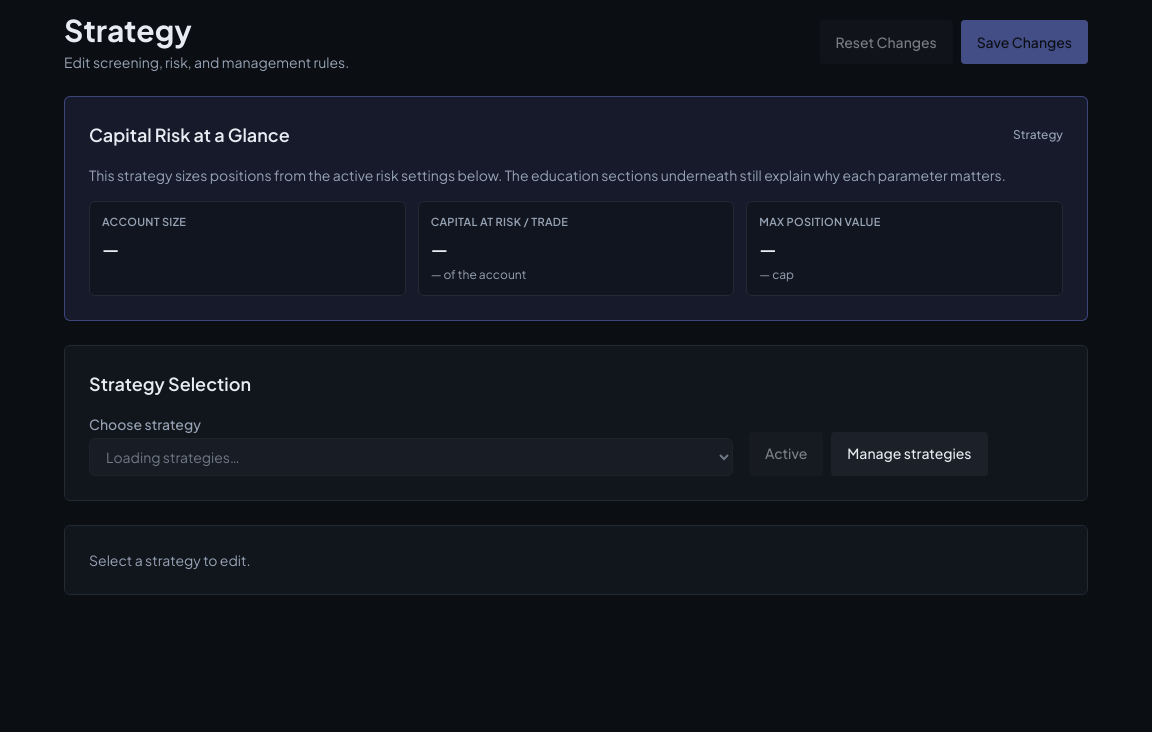
it: Strategy Page › disables delete for default strategy
This screenshot has width=1152, height=732.
Click the button "Manage strategies".
click(910, 454)  # box [831,432,988,476]
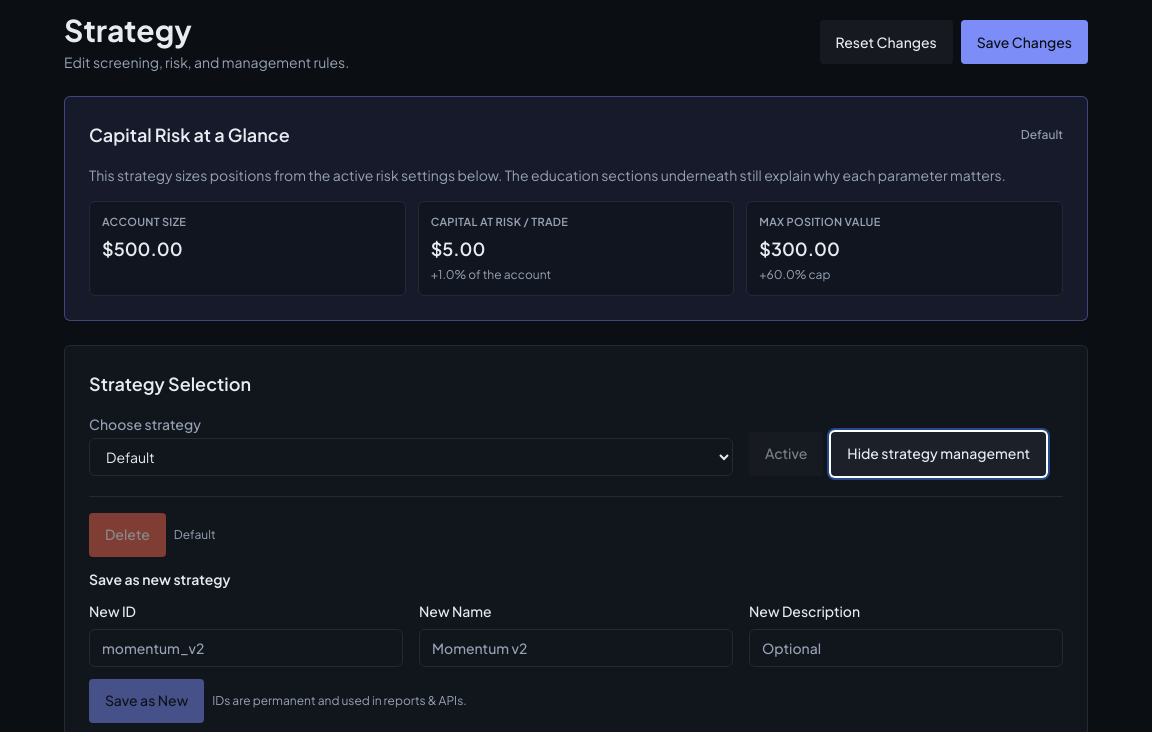
Expected: the button "Delete" is disabled, [89,512,166,556]
